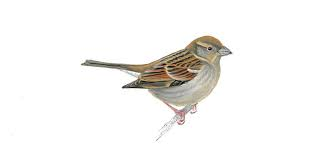hsparrow: (80, 32, 235, 139)
